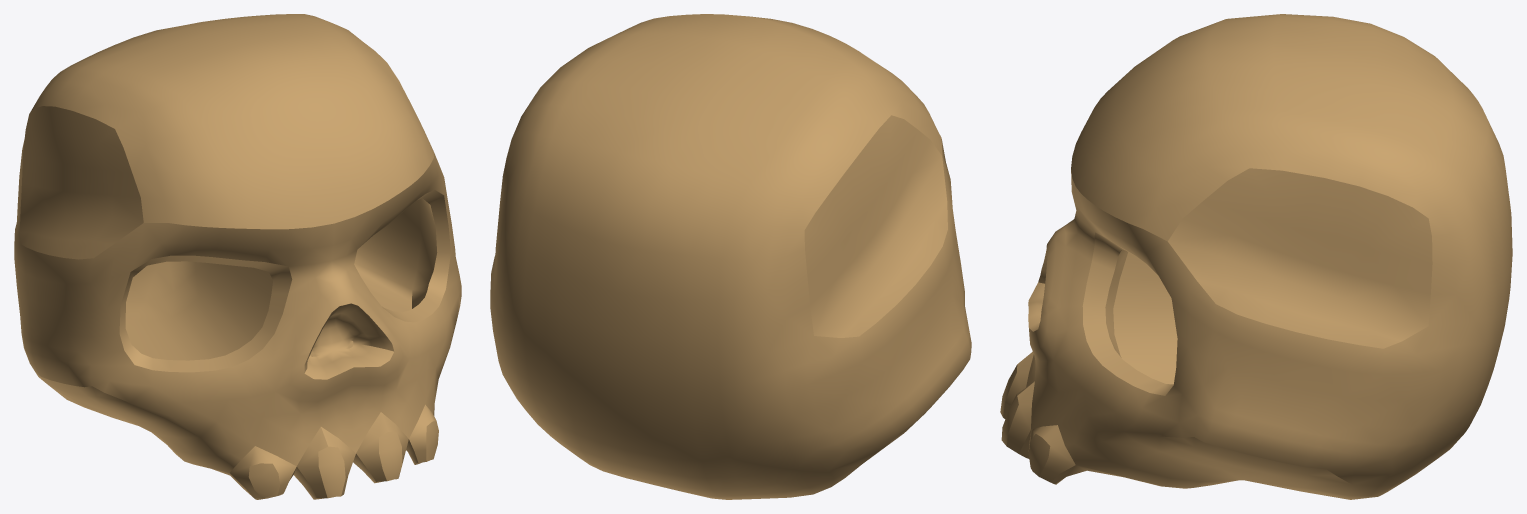
Rendered from environment-skulls.glb.
3 views of the same model, side by side, from view 1: azimuth 30°, elevation 25°; view 2: azimuth 150°, elevation 25°; view 3: azimuth 270°, elevation 25° (orthographic). The views are drawn at different scales.
Parts seen in each view (by area): view 1: Environment_Skulls; view 2: Environment_Skulls; view 3: Environment_Skulls.
Boxes of the visible parts, bbox=[...] form: Environment_Skulls: bbox=[14, 14, 461, 499]; Environment_Skulls: bbox=[490, 14, 971, 499]; Environment_Skulls: bbox=[1000, 14, 1512, 499].
Size of the model in its own units: 4.14 by 3.81 by 4.44.
Materials: 1 (1 with a texture image).
